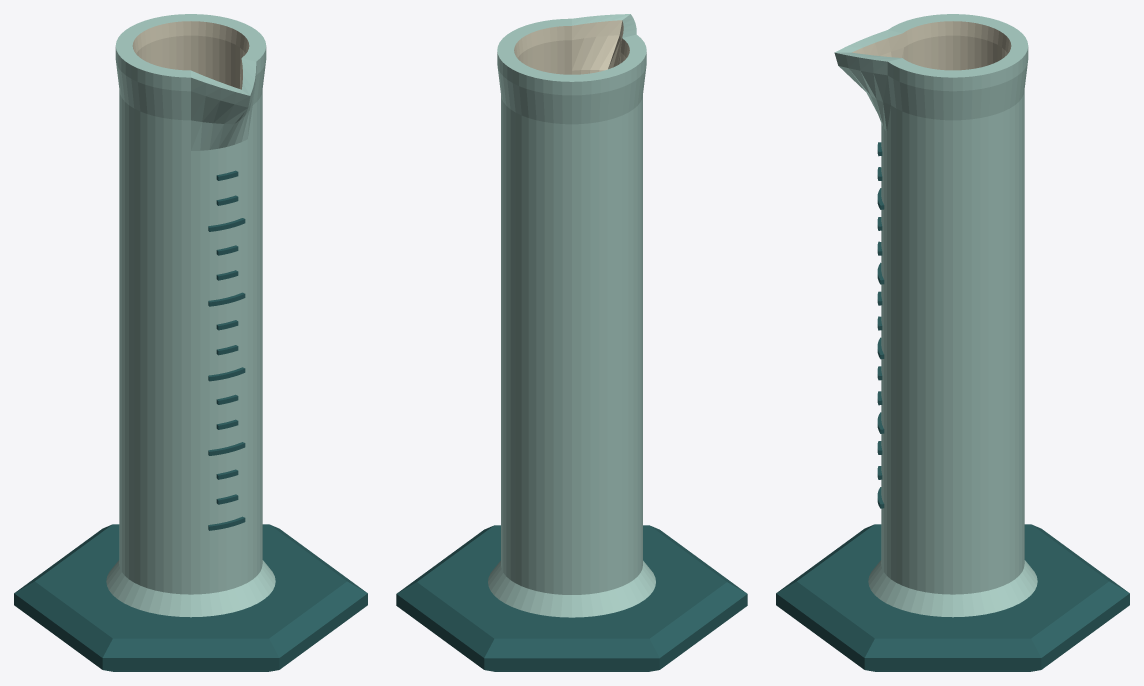
3 views of the same model, side by side, from view 1: azimuth 30°, elevation 25°; view 2: azimuth 150°, elevation 25°; view 3: azimuth 270°, elevation 25° (orthographic).
Parts seen in each view (by area): view 1: Cylinder_IntegralFootAndSpout; view 2: Cylinder_IntegralFootAndSpout; view 3: Cylinder_IntegralFootAndSpout.
Boxes of the visible parts, x1=… form: Cylinder_IntegralFootAndSpout: x1=14, y1=14, x2=367, y2=671; Cylinder_IntegralFootAndSpout: x1=396, y1=14, x2=747, y2=671; Cylinder_IntegralFootAndSpout: x1=776, y1=14, x2=1129, y2=671.
Size of the model in its own units: 0.1628 by 0.334 by 0.188.
